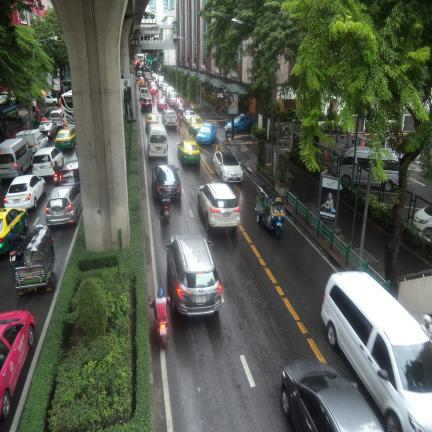bus: (61, 90, 75, 131)
car: (165, 234, 222, 315), (198, 183, 240, 232), (46, 186, 82, 226), (4, 175, 46, 209), (151, 165, 181, 200), (213, 151, 243, 182), (32, 147, 64, 176), (59, 160, 80, 187), (38, 120, 58, 139), (162, 110, 178, 129), (140, 95, 153, 112), (183, 110, 197, 124), (177, 102, 186, 116), (150, 84, 158, 95), (138, 77, 145, 87), (228, 121, 231, 131), (152, 73, 157, 79), (389, 431, 390, 432)
human: (149, 288, 170, 322), (7, 225, 24, 252), (160, 186, 170, 217), (53, 161, 62, 178), (224, 123, 228, 143), (178, 110, 181, 126), (41, 116, 48, 122), (190, 101, 194, 110), (234, 113, 235, 113)
motorbike: (11, 224, 56, 297), (255, 184, 285, 239), (149, 299, 168, 348), (159, 199, 171, 222), (217, 107, 223, 117), (167, 298, 169, 301)
taxi: (0, 310, 35, 420), (0, 208, 28, 254), (178, 140, 200, 163), (55, 129, 76, 149), (196, 123, 216, 144), (234, 114, 255, 132), (145, 113, 159, 133), (188, 116, 203, 134), (157, 99, 168, 111), (174, 98, 185, 110), (138, 78, 146, 87)
truck: (15, 129, 49, 154), (144, 72, 151, 81)
van: (321, 272, 432, 432), (0, 138, 33, 178), (147, 123, 168, 157), (353, 147, 370, 184), (383, 155, 399, 185), (340, 148, 354, 182), (49, 109, 63, 128), (167, 90, 179, 106), (167, 90, 178, 106), (163, 84, 174, 98), (139, 87, 149, 99), (371, 177, 381, 186), (158, 75, 164, 88), (386, 182, 394, 191), (137, 70, 142, 78)
